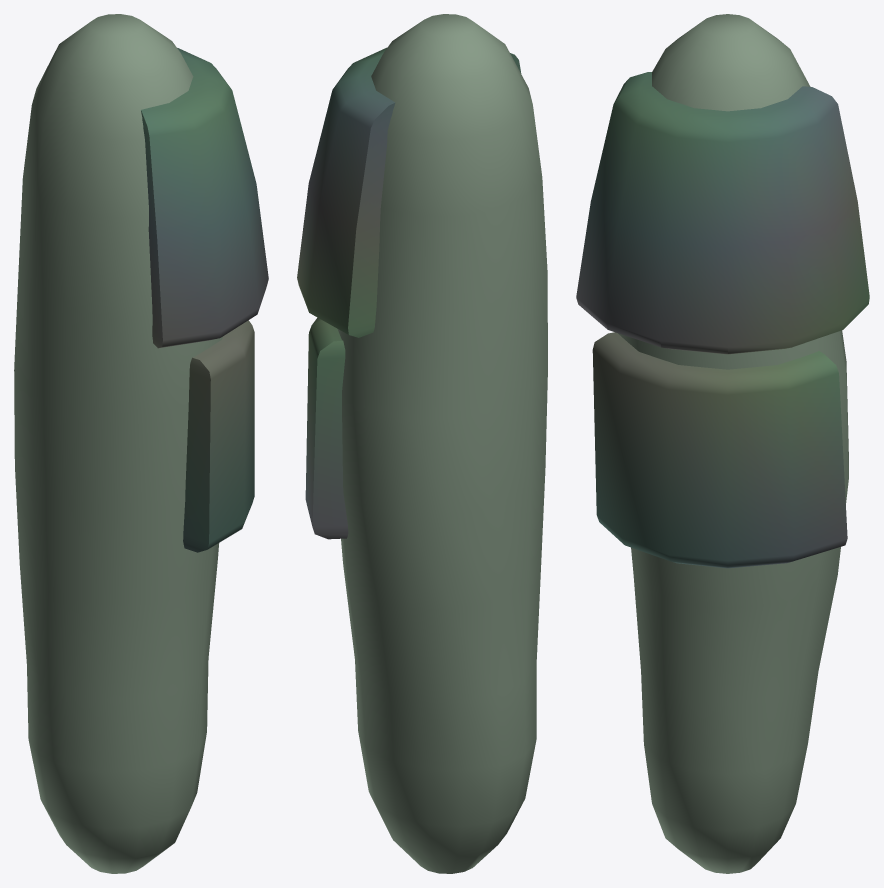
The model's file is upper_arm_r.glb.
3 renders of one model, left to right at view 1: azimuth 30°, elevation 25°; view 2: azimuth 150°, elevation 25°; view 3: azimuth 270°, elevation 25°, orthographic.
Parts seen in each view (by area): view 1: OUT; view 2: OUT; view 3: OUT.
Boxes of the visible parts, x1,y1,x2,y2 form: OUT: [14, 14, 268, 873]; OUT: [297, 14, 547, 873]; OUT: [576, 14, 869, 873].
Size of the model in its own units: 0.0929 by 0.344 by 0.1095.
